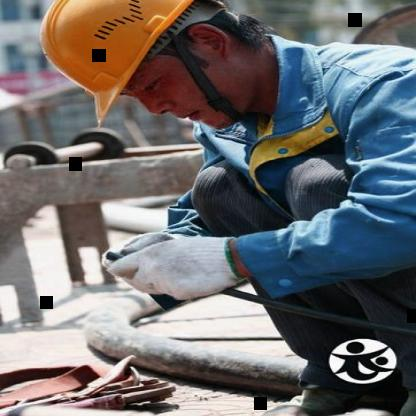helmet: (14, 0, 269, 124), (296, 330, 416, 396)
